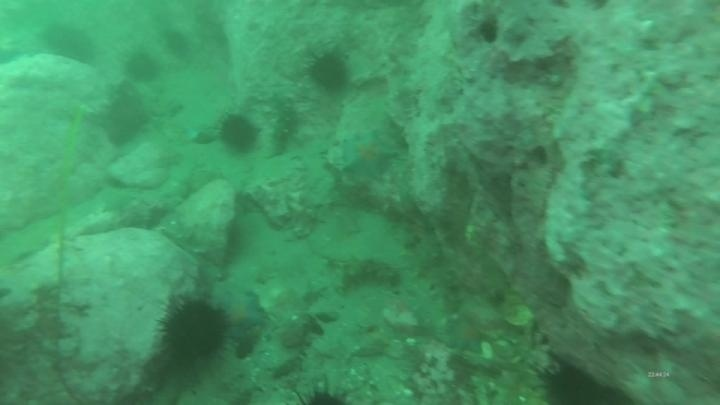echinus: (156, 294, 232, 368), (536, 360, 607, 404), (102, 90, 151, 146), (40, 21, 98, 67), (305, 49, 352, 95), (217, 112, 262, 156), (288, 379, 363, 405), (122, 49, 162, 85), (160, 27, 193, 59)
holothurian: (405, 227, 464, 316), (334, 255, 405, 295), (263, 91, 299, 159)
starfish: (338, 128, 399, 182), (220, 290, 267, 338), (444, 316, 489, 354)
